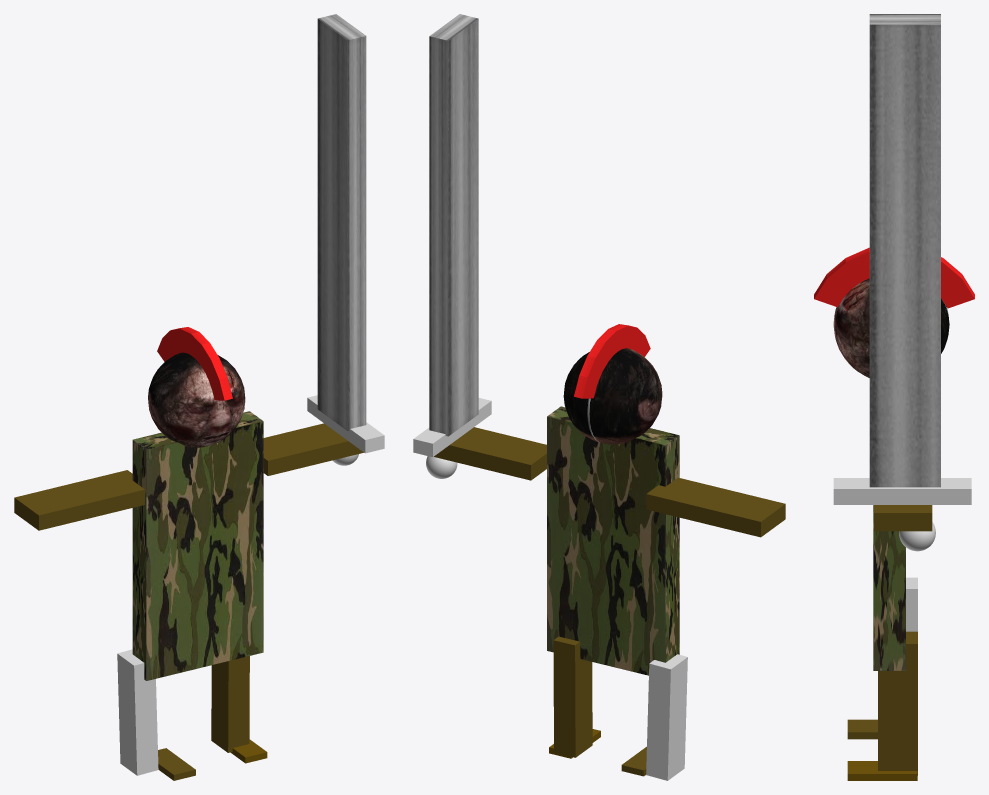
Rendered from commando.FBX.
3 views of the same model, side by side, from view 1: azimuth 30°, elevation 25°; view 2: azimuth 150°, elevation 25°; view 3: azimuth 270°, elevation 25° (orthographic). The views are drawn at different scales.
Visible parts, largest first — view 1: Box005, Box009, Sphere001, Box007, Box004, Box003, Box006, Box010, Box008, Box002; view 2: Box005, Box009, Sphere001, Box007, Box004, Box003, Box006, Box010, Box008; view 3: Box009, Box005, Box003, Box008, Sphere001, Box010, Box006, Box001, Box004, Box002, Sphere002.
Boxes of the visible parts, x1,y1,x2,y2 form: Box005: [132, 411, 263, 680]; Box009: [317, 14, 366, 430]; Sphere001: [148, 352, 245, 447]; Box007: [14, 470, 144, 530]; Box004: [117, 649, 158, 775]; Box003: [211, 656, 249, 752]; Box006: [263, 423, 363, 475]; Box010: [157, 327, 232, 400]; Box008: [307, 395, 384, 453]; Box002: [158, 748, 195, 780]; Box005: [547, 406, 679, 675]; Box009: [429, 14, 478, 436]; Sphere001: [563, 348, 662, 444]; Box007: [646, 477, 785, 537]; Box004: [646, 654, 687, 780]; Box003: [553, 636, 592, 757]; Box006: [434, 427, 546, 480]; Box010: [574, 324, 650, 398]; Box008: [413, 398, 491, 457]; Box009: [869, 14, 940, 487]; Box005: [873, 505, 905, 670]; Box003: [878, 631, 917, 775]; Box008: [833, 478, 971, 504]; Sphere001: [833, 278, 949, 377]; Box010: [814, 247, 974, 308]; Box006: [874, 505, 932, 531]; Box001: [847, 761, 917, 780]; Box004: [906, 577, 917, 631]; Box002: [847, 719, 877, 739]; Sphere002: [899, 522, 935, 551].
Bounding box in the file's own units: 20.62 × 39.78 × 7.08.
Materials: 6 (3 with a texture image).
